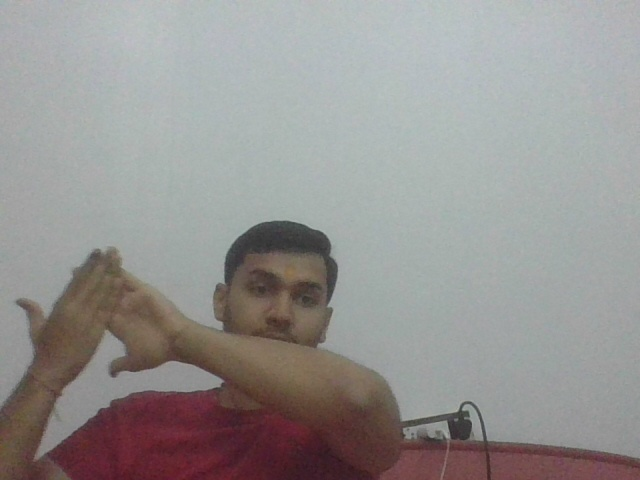H: (13, 246, 187, 378)
